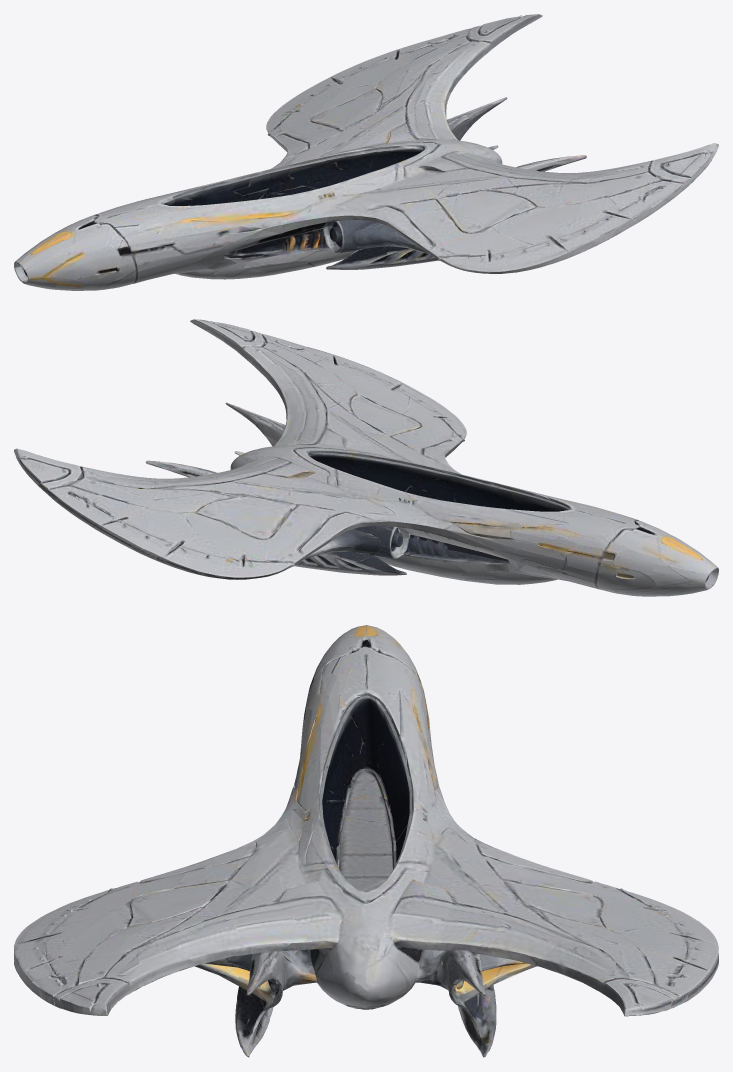
The model's file is m_origin_jet.glb.
The picture shows the model from 3 angles, top to bottom: view 1: azimuth 30°, elevation 25°; view 2: azimuth 150°, elevation 25°; view 3: azimuth 270°, elevation 25°; orthographic projection. The views are drawn at different scales.
Bounding box in the file's own units: 1.9 × 0.315 × 1.29.
Materials: 1 (1 with a texture image).
